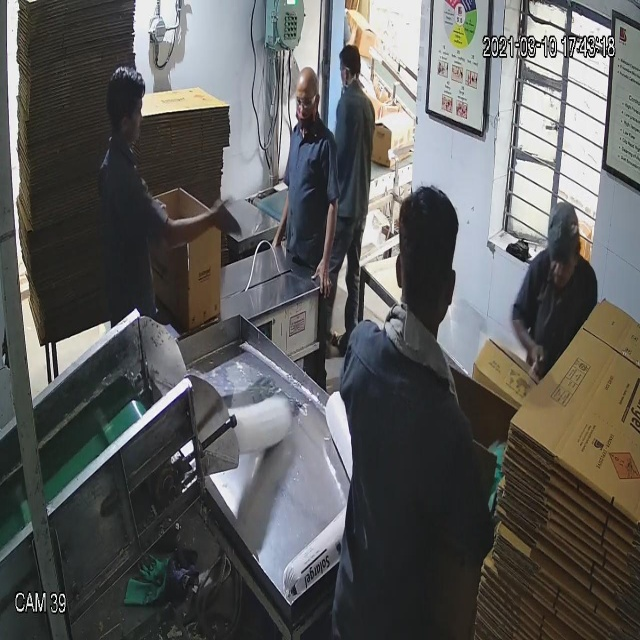Sin_guantes: (152, 190, 247, 263), (313, 181, 345, 303)
